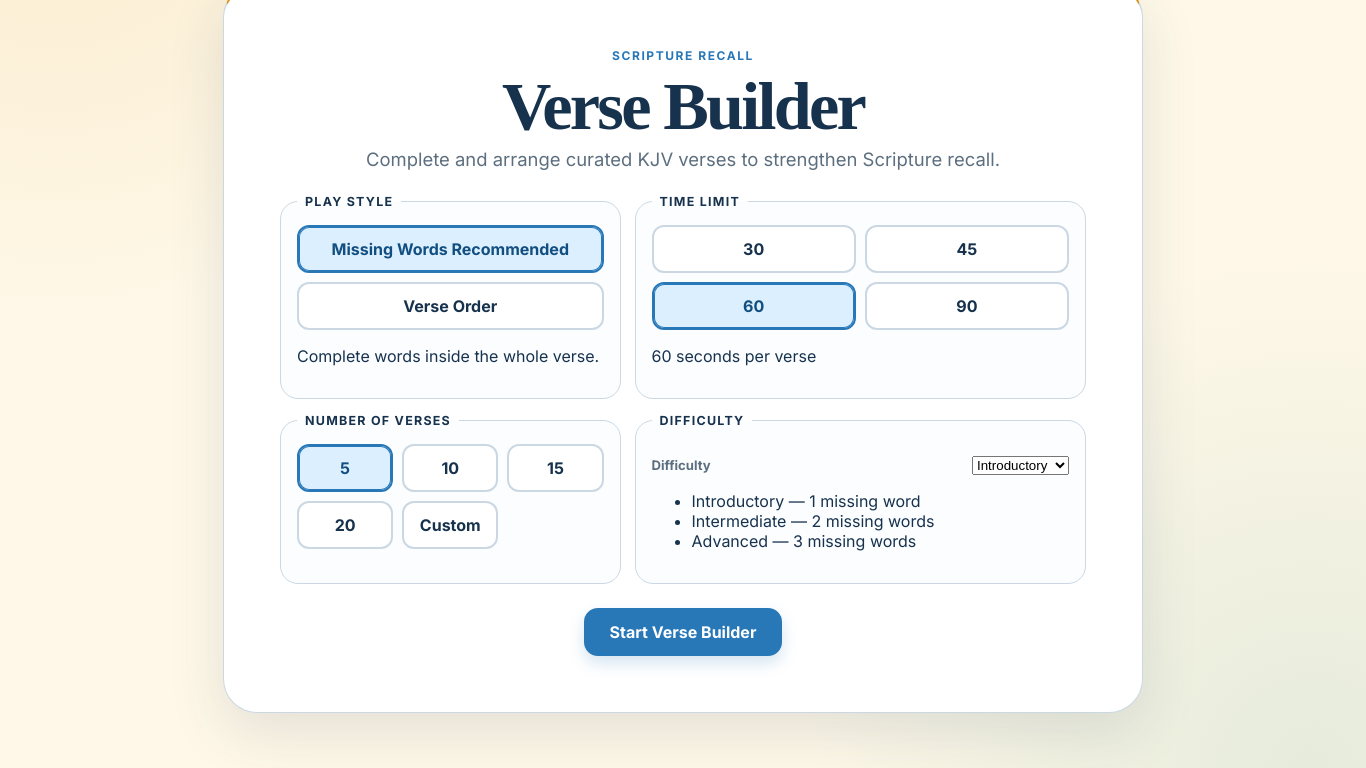
Test: Verse Builder Quick Play › keeps a wrong draft visible, then resolves after an exact retry
This screenshot has width=1366, height=768.
(page scrolled)
Click the button "Start Verse Builder": [683, 632] box [584, 608, 782, 656]
(page scrolled)
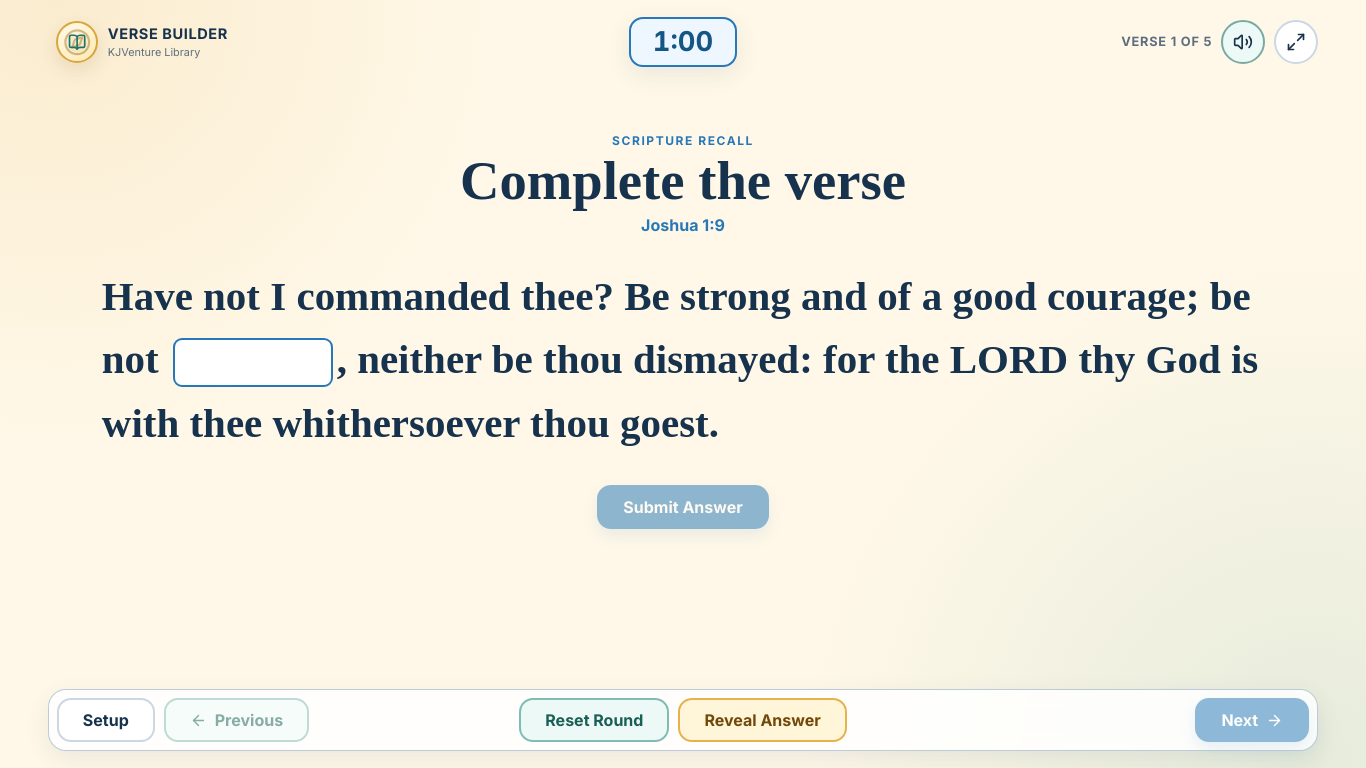
In the field named "Missing word 1 of 1 in Joshua 1:9": [253, 363] box [173, 338, 333, 387], type "wrong"
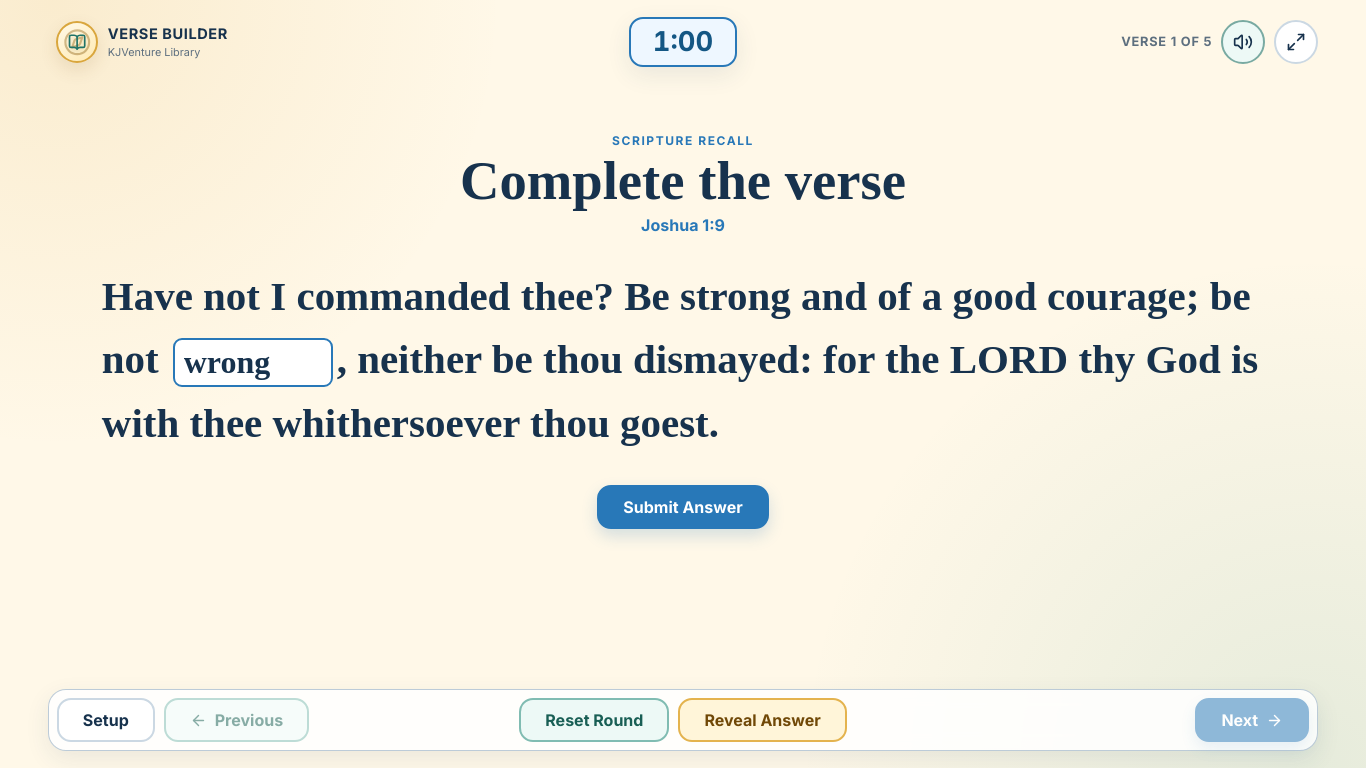
Click the button "Submit Answer": [683, 507] box [597, 485, 769, 529]
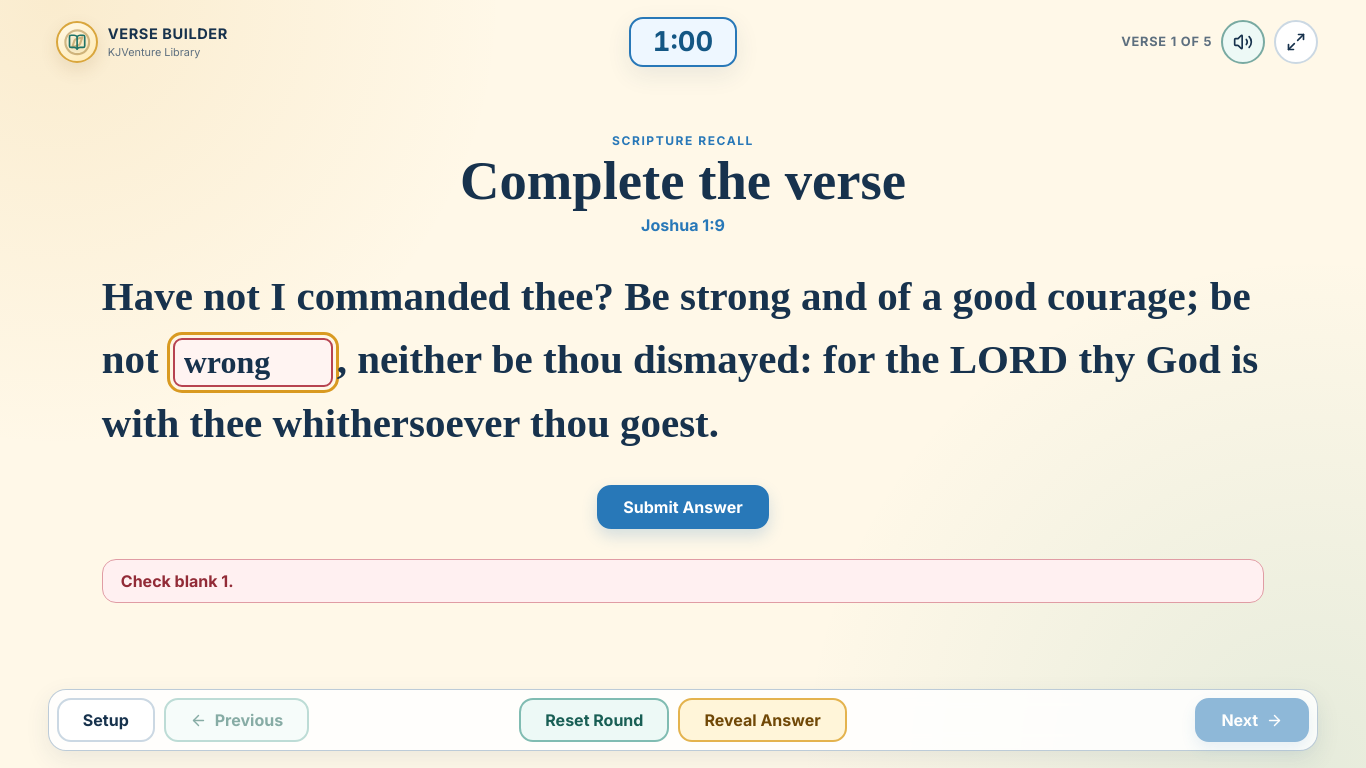
Replace the text in the field named "Missing word 1 of 1 in Joshua 1:9" with "afraid": [253, 363] box [173, 338, 333, 387]
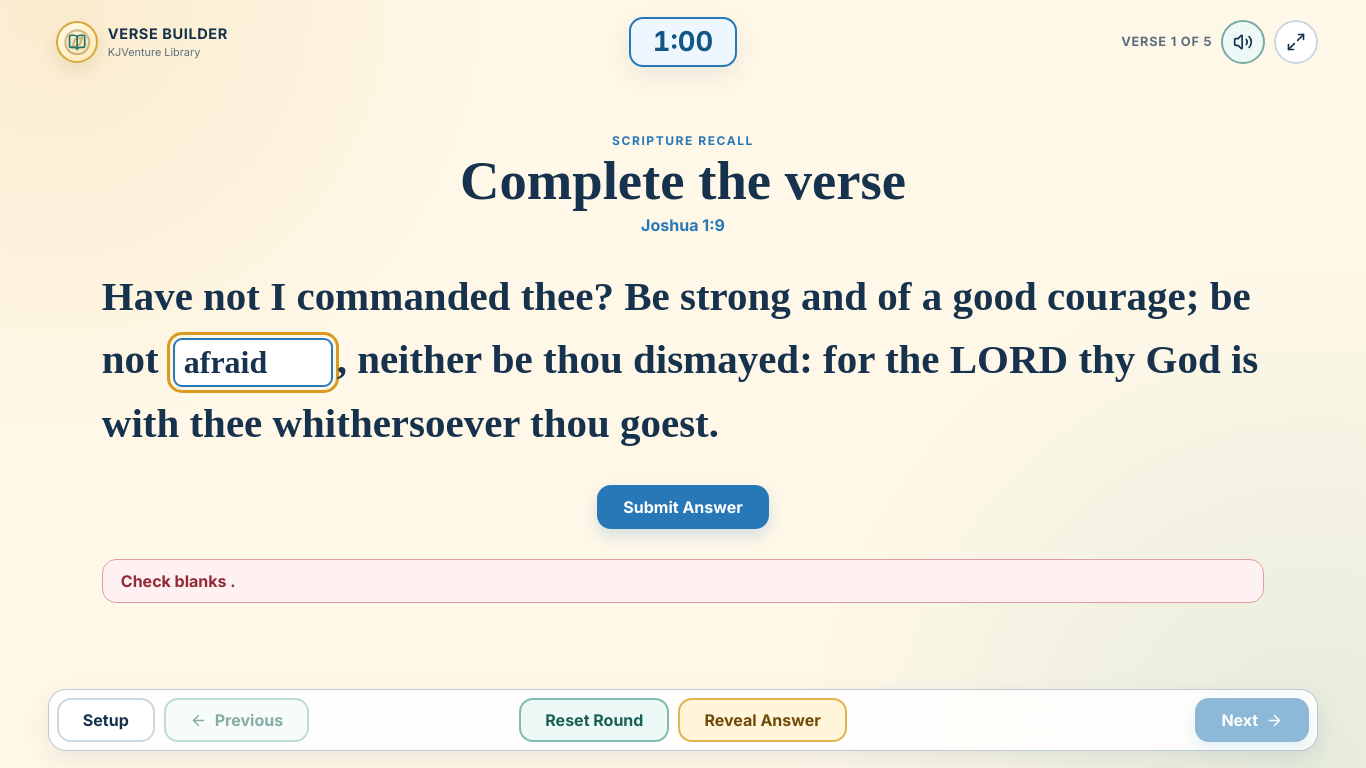
Click the button "Submit Answer": [683, 507] box [597, 485, 769, 529]
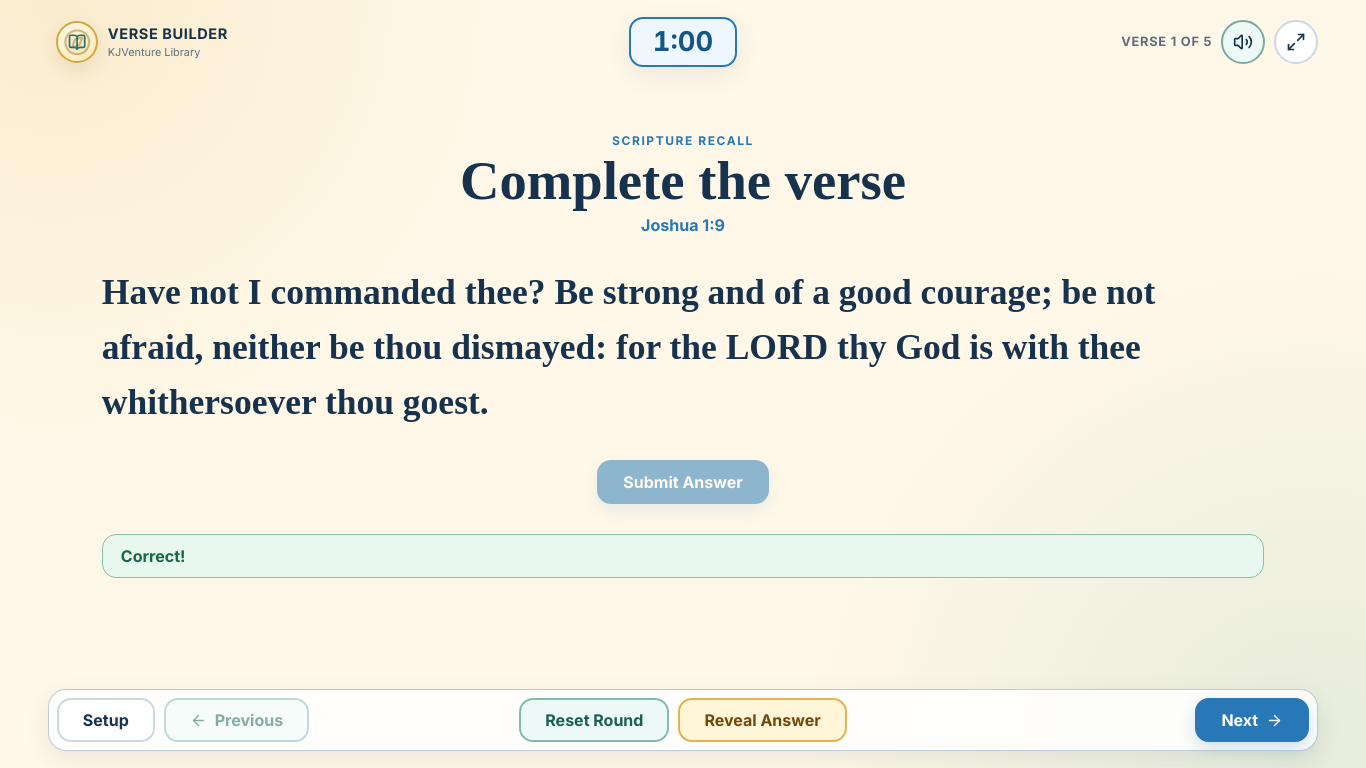
Now the text "Have not I commanded thee? Be strong and of a good courage; be not afraid, neither be thou dismayed: for the LORD thy Go" is shown, box [102, 272, 1164, 422]
